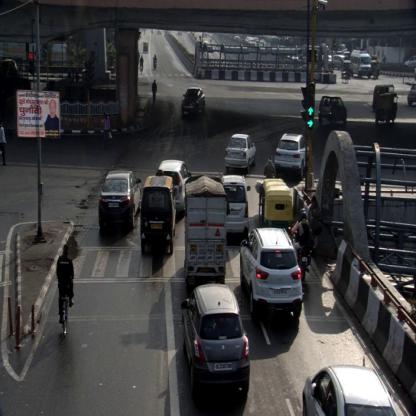bus: (184, 175, 227, 290), (350, 47, 372, 79)
car: (179, 284, 252, 398), (239, 226, 302, 322), (300, 363, 398, 415), (142, 170, 175, 256), (98, 170, 141, 230), (155, 158, 192, 219), (276, 133, 308, 174), (225, 133, 256, 174), (318, 94, 348, 125), (181, 86, 204, 113)
motorcycle: (57, 244, 74, 338), (292, 210, 311, 278), (153, 52, 157, 69)
